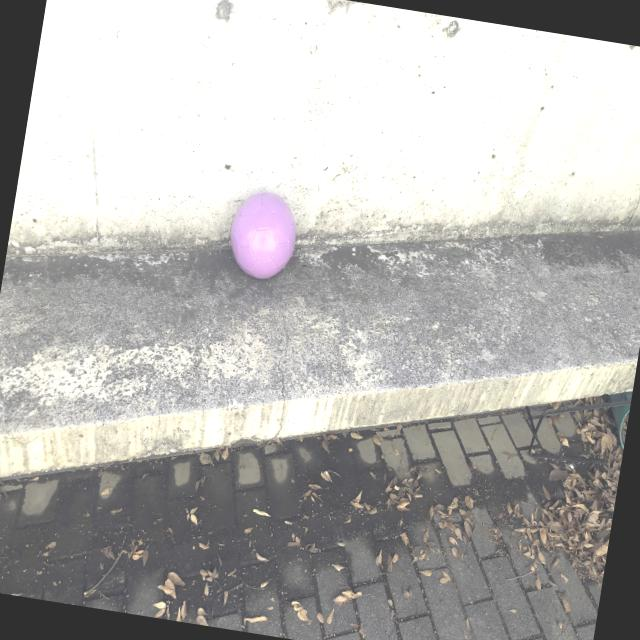purple_ball: (223, 186, 304, 282)
